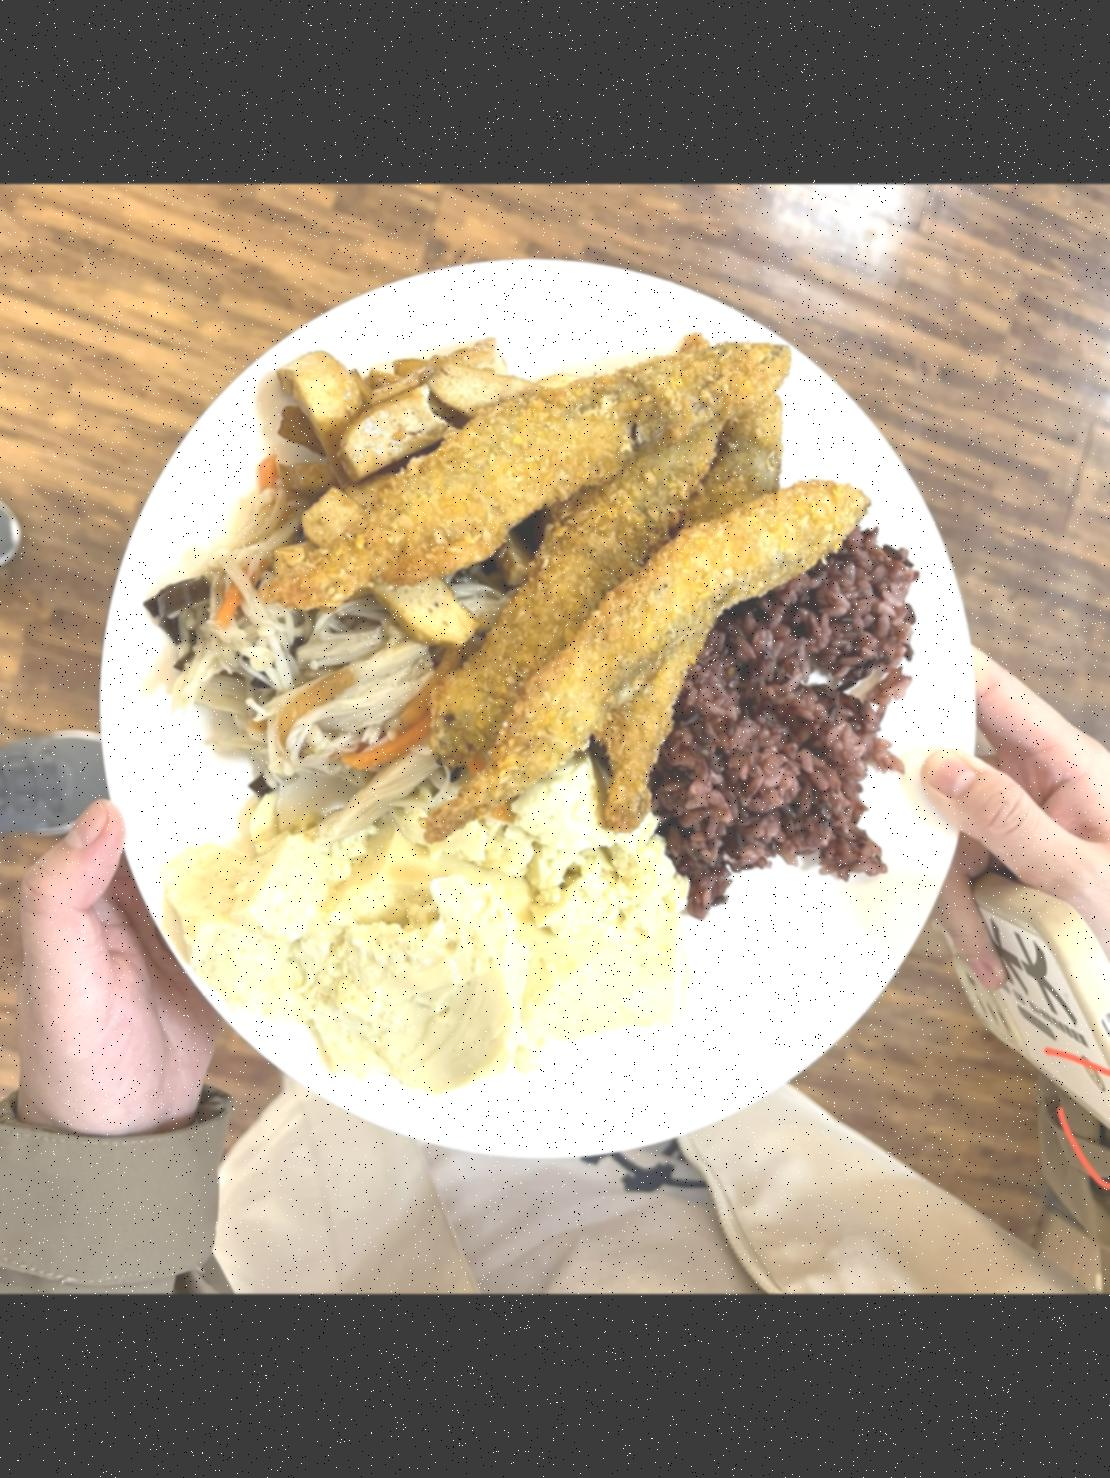fried shishamo: (305, 308, 857, 833)
plate: (87, 255, 990, 1177)
purple rice: (662, 532, 923, 910)
side dish: (175, 769, 697, 1081), (279, 345, 531, 655), (164, 556, 470, 791)
